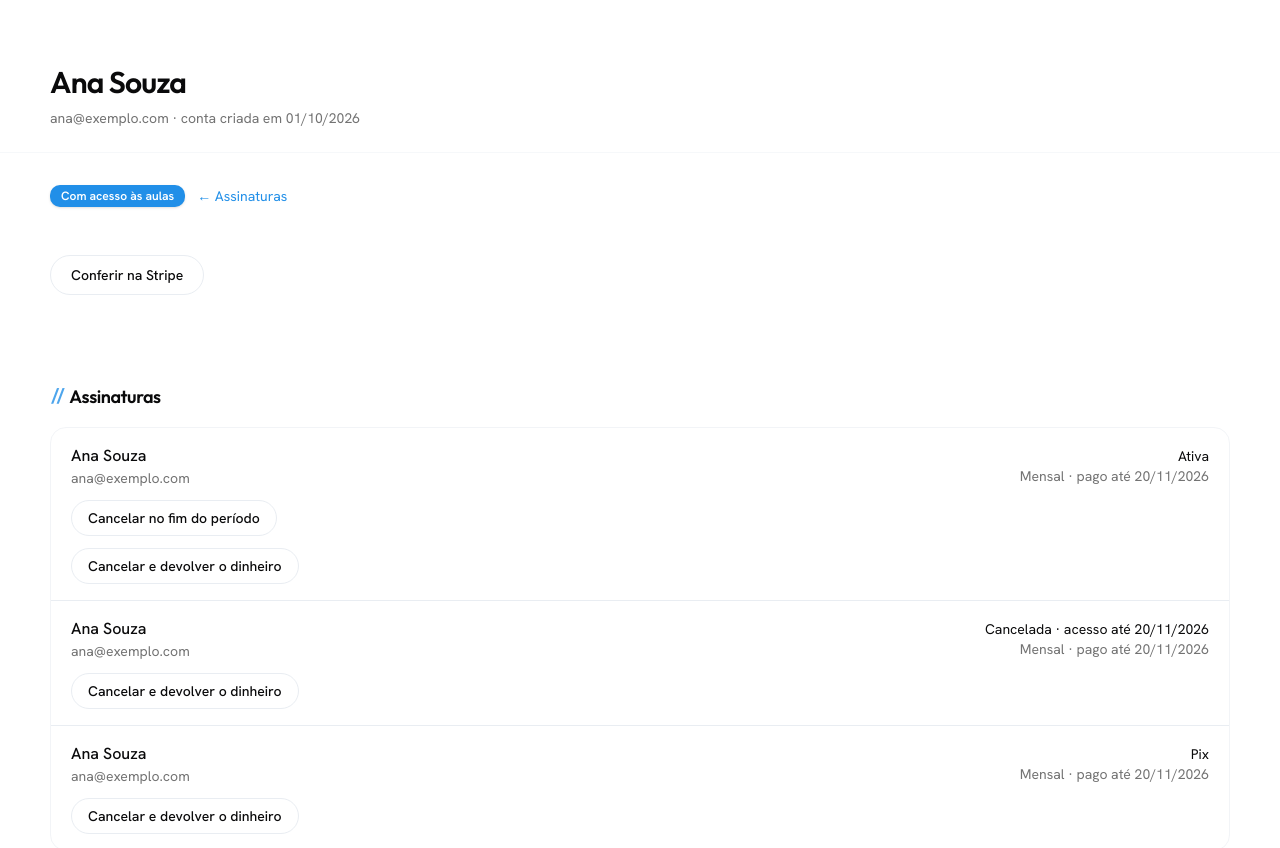
Test: a ficha — as ações (passo 3a) › a ação que não deu: diz por quê; a cancelada e a pré-paga não têm botão
This screenshot has width=1280, height=848.
Check: the number of buttons "Cancelar e devolver o dinheiro" is 3, box [71, 548, 298, 584]; [71, 673, 298, 709]; [71, 798, 298, 834]
Click the button "Cancelar no fim do período": (174, 518) [71, 500, 277, 536]
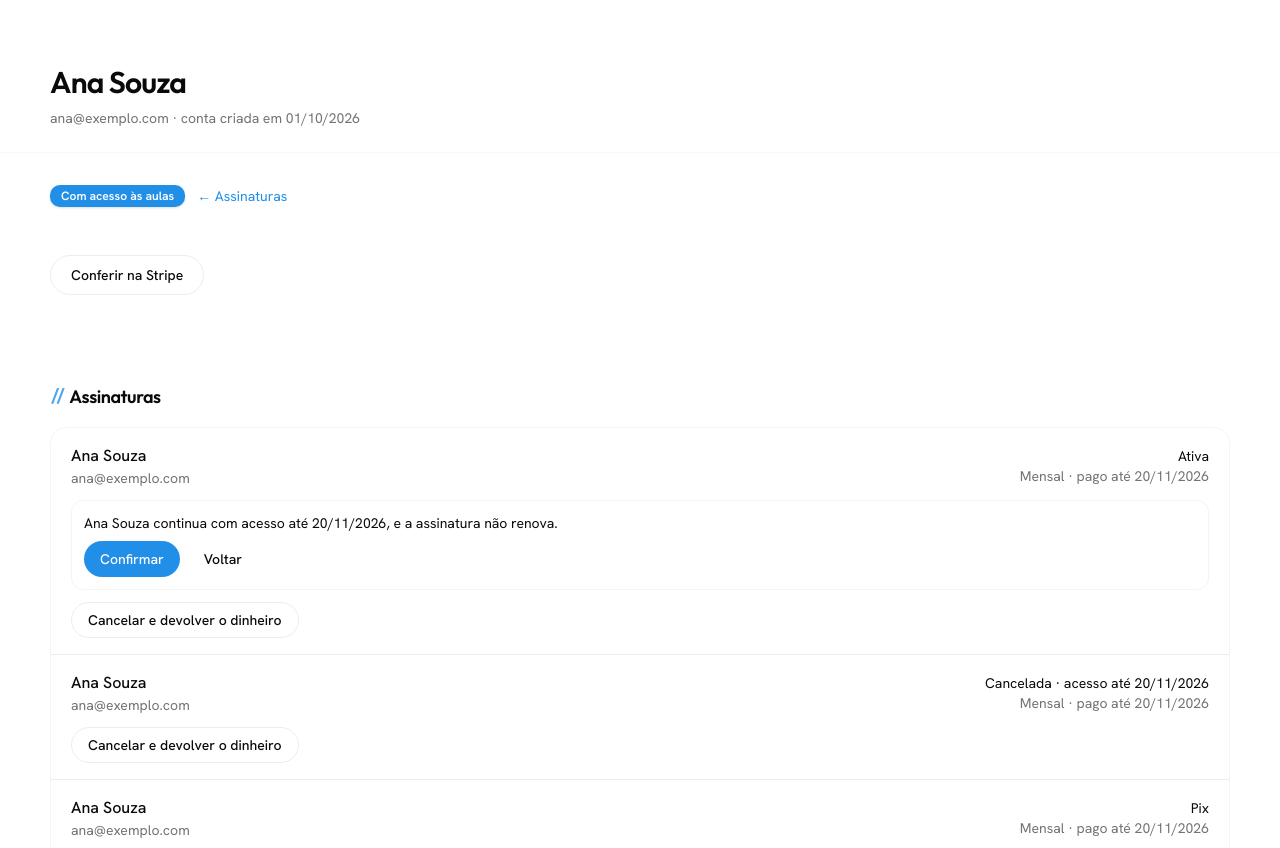
Click the button "Confirmar": (132, 559) [84, 541, 180, 577]
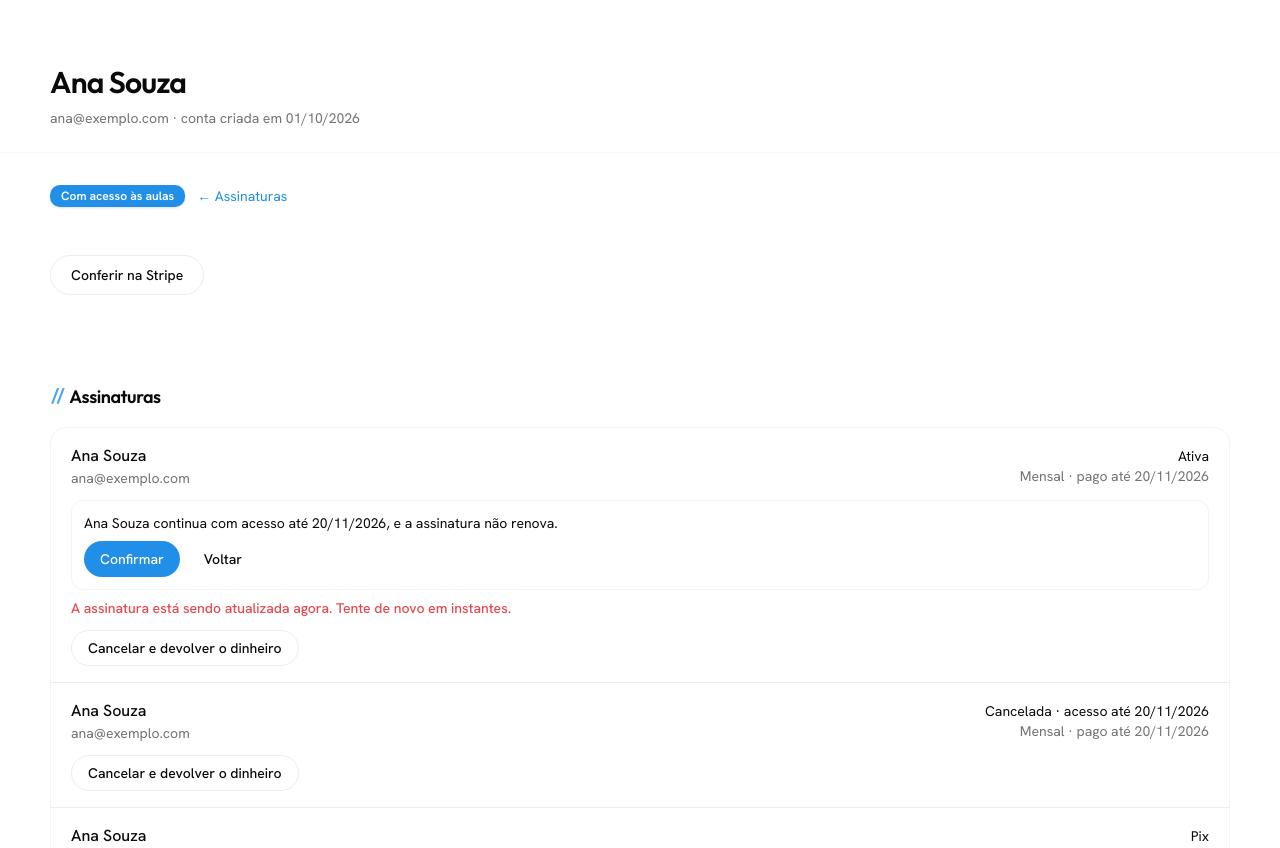
Check: the message reads "A assinatura está sendo atualizada agora. Tente de novo em instantes.", box [71, 599, 511, 617]
